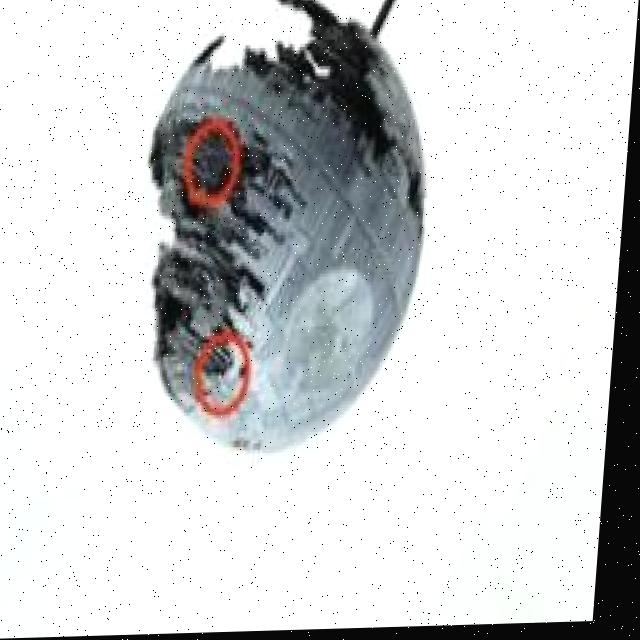deathstar: (131, 0, 444, 463)
